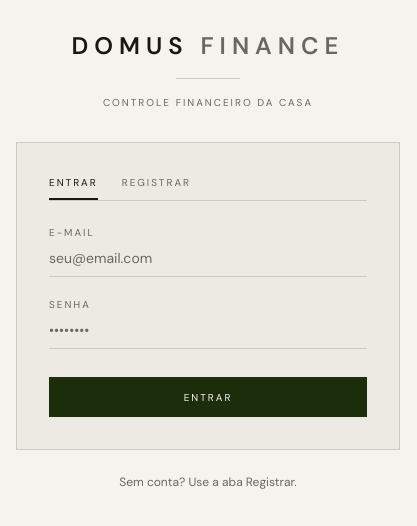
Test case: autenticação › bloqueia o envio do login com os campos vazios
Click the button "Entrar": (208, 397) [49,377,367,417]
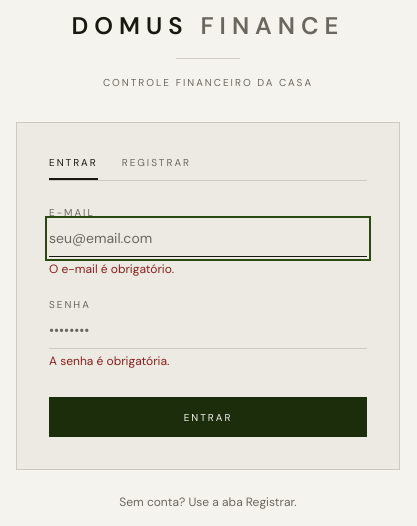
expect the text "O e-mail é obrigatório." is shown: met, box [49,261,174,277]
expect the text "A senha é obrigatória." is shown: met, box [49,353,169,369]
